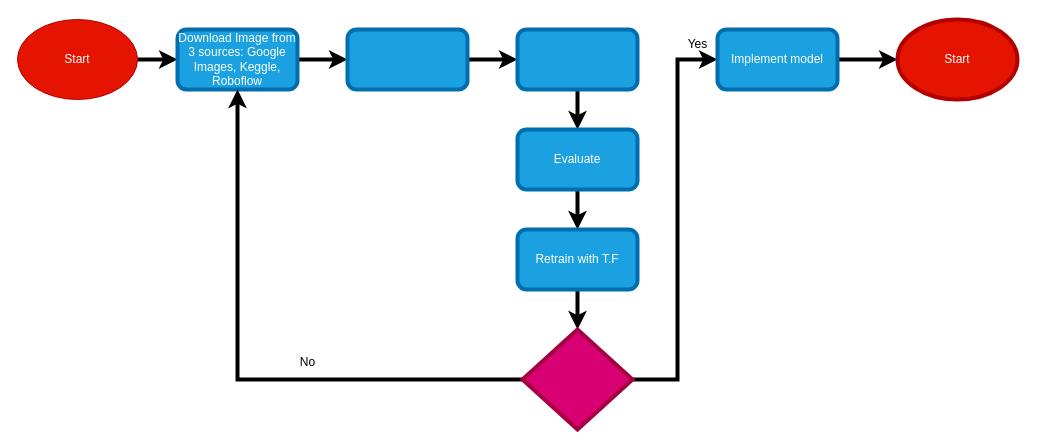
Image size: 1037x448. Some labels were removed from this diagram. Each missing label, with the centre of its shape:
"Clean data" belongs at point (407, 59).
"Performance" belongs at point (577, 379).
"Training with yolo" belongs at point (577, 59).
